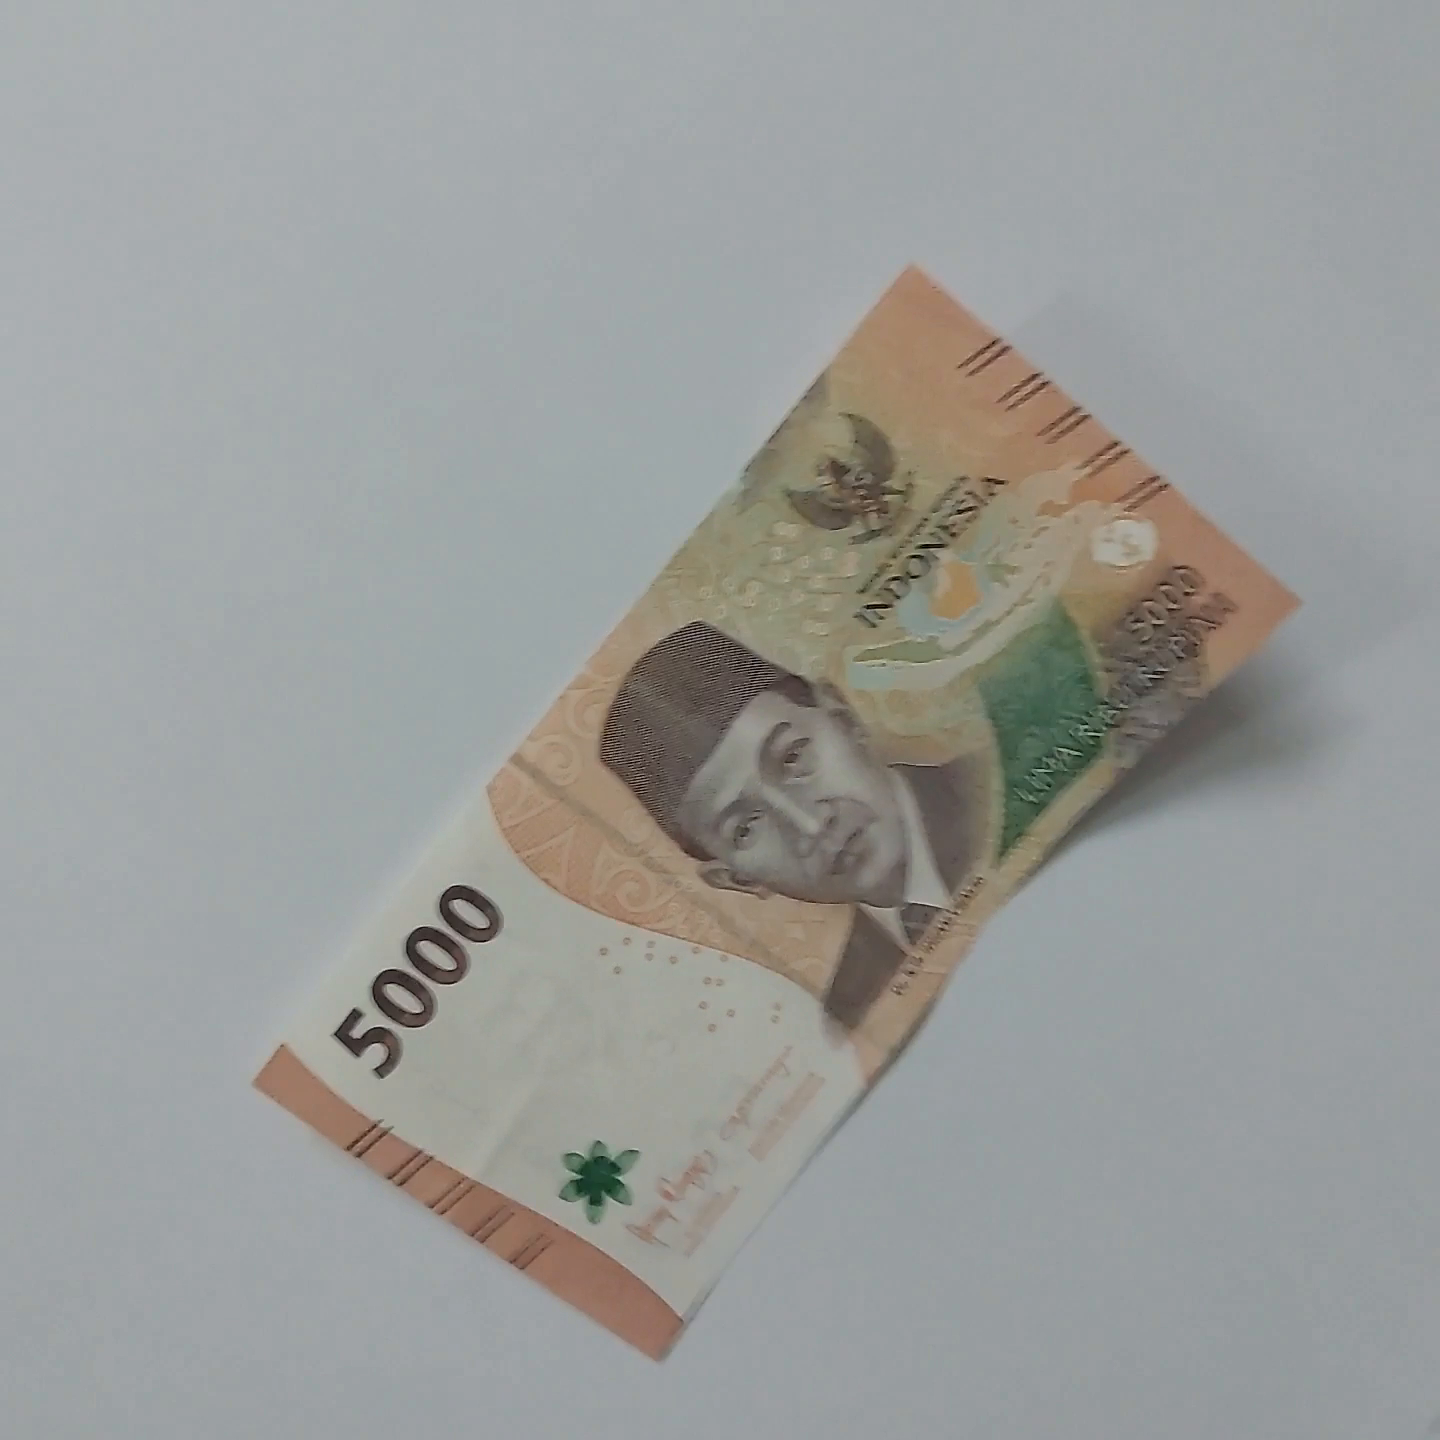5k: (898, 239, 1440, 1335)
